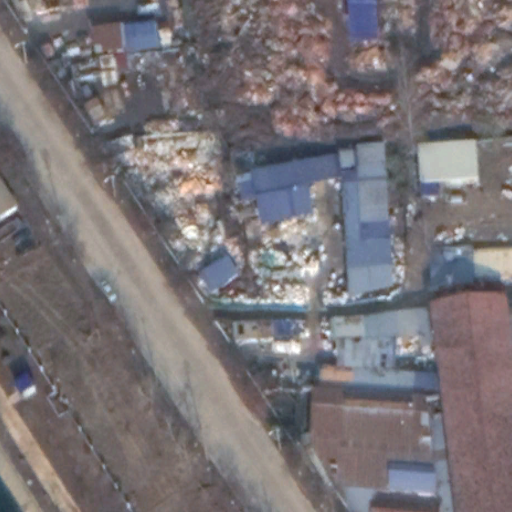msw: (120, 129, 343, 306)
